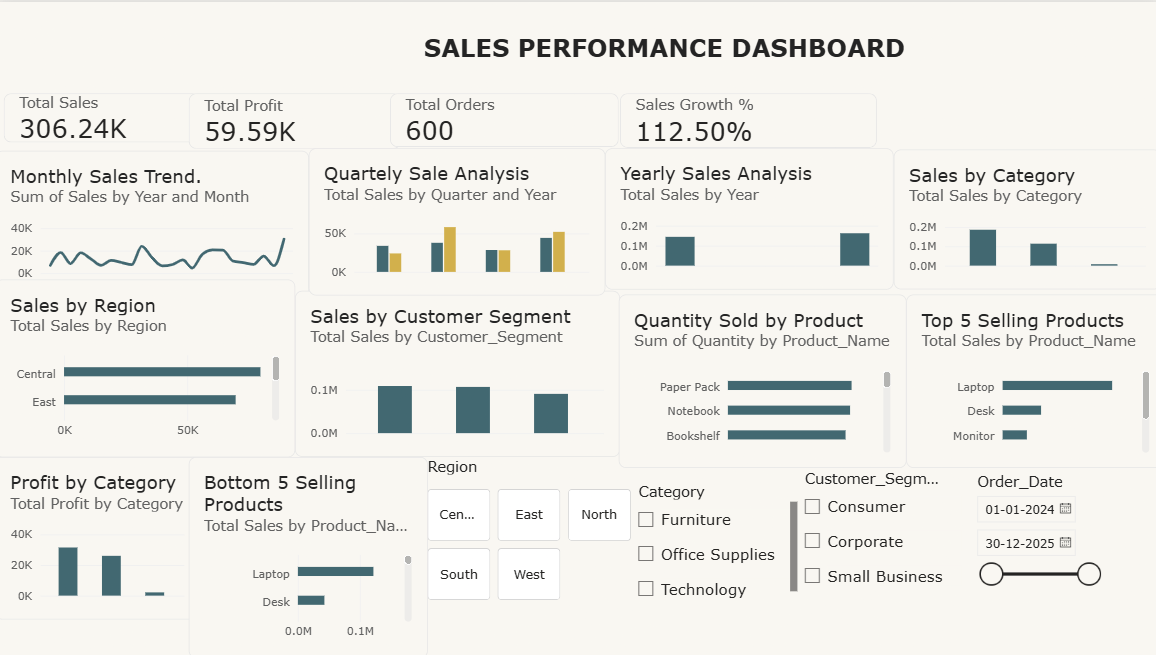

This screenshot's page, from the dashboard's own definition file:
{"tool":"powerbi","page":{"name":"Page 1","canvas":[1280,720],"ordinal":0},"visuals":[{"type":"cardVisual","fields":{"Data":["Syntecxhub_Sales_Sample_Dataset.Total Sales"]},"box":[9.6,100.2,215.4,54.9],"z":0},{"type":"cardVisual","fields":{"Data":["Syntecxhub_Sales_Sample_Dataset.Total Profit"]},"box":[212.7,100.2,233.3,61.7],"z":1000},{"type":"cardVisual","fields":{"Data":["Syntecxhub_Sales_Sample_Dataset.Total Orders"]},"box":[433.6,100.2,251.1,59],"z":2000},{"type":"textbox","box":[9.6,32.9,1207.6,50.8],"z":3000},{"type":"textbox","box":[1710,0,210,280],"z":4000},{"type":"lineChart","title":"Monthly Sales Trend.","fields":{"Category":["Syntecxhub_Sales_Sample_Dataset.Order_Date.Variation.Date Hierarchy.Year","Syntecxhub_Sales_Sample_Dataset.Order_Date.Variation.Date Hierarchy.Month"],"Y":["Sum(Syntecxhub_Sales_Sample_Dataset.Sales)"]},"box":[0,163.3,344.4,160.5],"z":5000},{"type":"clusteredBarChart","title":"Sales by Region","fields":{"Category":["Syntecxhub_Sales_Sample_Dataset.Region"],"Y":["Syntecxhub_Sales_Sample_Dataset.Total Sales"]},"box":[0,304.6,329.3,194.9],"z":6000},{"type":"clusteredColumnChart","title":"Sales by Category","fields":{"Category":["Syntecxhub_Sales_Sample_Dataset.Category"],"Y":["Syntecxhub_Sales_Sample_Dataset.Total Sales"]},"box":[986.6,161.9,293.7,153.7],"z":7000},{"type":"clusteredColumnChart","title":" Sales by Customer Segment","fields":{"Category":["Syntecxhub_Sales_Sample_Dataset.Customer_Segment"],"Y":["Syntecxhub_Sales_Sample_Dataset.Total Sales"]},"box":[329.3,317,356.8,182.5],"z":8000},{"type":"clusteredColumnChart","title":" Profit by Category","fields":{"Category":["Syntecxhub_Sales_Sample_Dataset.Category"],"Y":["Syntecxhub_Sales_Sample_Dataset.Total Profit"]},"box":[0,499.5,225,178.4],"z":9000},{"type":"clusteredBarChart","title":" Quantity Sold by Product","fields":{"Category":["Syntecxhub_Sales_Sample_Dataset.Product_Name"],"Y":["Sum(Syntecxhub_Sales_Sample_Dataset.Quantity)"]},"box":[684.7,321.1,315.6,190.7],"z":10000},{"type":"advancedSlicerVisual","fields":{"Values":["Syntecxhub_Sales_Sample_Dataset.Region"]},"box":[474.8,499.5,223.7,159.2],"z":11000},{"type":"slicer","fields":{"Values":["Syntecxhub_Sales_Sample_Dataset.Category"]},"box":[698.5,526.9,182.5,131.7],"z":12000},{"type":"slicer","fields":{"Values":["Syntecxhub_Sales_Sample_Dataset.Customer_Segment"]},"box":[881,513.2,179.8,150.9],"z":13000},{"type":"slicer","fields":{"Values":["Syntecxhub_Sales_Sample_Dataset.Order_Date"]},"box":[1070.3,516,146.8,145.5],"z":14000},{"type":"clusteredColumnChart","title":"Quartely Sale Analysis","fields":{"Category":["Syntecxhub_Sales_Sample_Dataset.Order_Date.Variation.Date Hierarchy.Quarter"],"Y":["Syntecxhub_Sales_Sample_Dataset.Total Sales"],"Series":["Syntecxhub_Sales_Sample_Dataset.Order_Date.Variation.Date Hierarchy.Year"]},"box":[344.4,160.5,325.2,161.9],"z":15000},{"type":"clusteredColumnChart","title":"Yearly Sales Analysis","fields":{"Category":["Syntecxhub_Sales_Sample_Dataset.Order_Date.Variation.Date Hierarchy.Year"],"Y":["Syntecxhub_Sales_Sample_Dataset.Total Sales"]},"box":[669.6,160.5,317,155.1],"z":16000},{"type":"cardVisual","fields":{"Data":["Syntecxhub_Sales_Sample_Dataset.Sales Growth %"]},"box":[686.1,100.2,282.7,60.4],"z":17000},{"type":"clusteredBarChart","title":"Top 5 Selling Products","fields":{"Category":["Syntecxhub_Sales_Sample_Dataset.Product_Name"],"Y":["Syntecxhub_Sales_Sample_Dataset.Total Sales"]},"box":[1000.3,321.1,284,190.7],"z":18000},{"type":"clusteredBarChart","title":"Bottom 5 Selling Products","fields":{"Category":["Syntecxhub_Sales_Sample_Dataset.Product_Name"],"Y":["Syntecxhub_Sales_Sample_Dataset.Total Sales"]},"box":[212.7,499.5,262.1,220.9],"z":19000}]}

Visuals, with their boxes in screenshot pixels (x1, y1, x2, y2), scaled from the page's 1280x720 canvas onto the 1156x655 screenshot:
cardVisual - Syntecxhub_Sales_Sample_Dataset.Total Sales: (left=9, top=91, right=203, bottom=141)
cardVisual - Syntecxhub_Sales_Sample_Dataset.Total Profit: (left=192, top=91, right=403, bottom=147)
cardVisual - Syntecxhub_Sales_Sample_Dataset.Total Orders: (left=392, top=91, right=618, bottom=145)
textbox: (left=9, top=30, right=1099, bottom=76)
"Monthly Sales Trend." lineChart: (left=0, top=149, right=311, bottom=295)
"Sales by Region" clusteredBarChart: (left=0, top=277, right=297, bottom=454)
"Sales by Category" clusteredColumnChart: (left=891, top=147, right=1155, bottom=287)
" Sales by Customer Segment" clusteredColumnChart: (left=297, top=288, right=620, bottom=454)
" Profit by Category" clusteredColumnChart: (left=0, top=454, right=203, bottom=617)
" Quantity Sold by Product" clusteredBarChart: (left=618, top=292, right=903, bottom=466)
advancedSlicerVisual - Syntecxhub_Sales_Sample_Dataset.Region: (left=429, top=454, right=631, bottom=599)
slicer - Syntecxhub_Sales_Sample_Dataset.Category: (left=631, top=479, right=796, bottom=599)
slicer - Syntecxhub_Sales_Sample_Dataset.Customer_Segment: (left=796, top=467, right=958, bottom=604)
slicer - Syntecxhub_Sales_Sample_Dataset.Order_Date: (left=967, top=469, right=1099, bottom=602)
"Quartely Sale Analysis" clusteredColumnChart: (left=311, top=146, right=605, bottom=293)
"Yearly Sales Analysis" clusteredColumnChart: (left=605, top=146, right=891, bottom=287)
cardVisual - Syntecxhub_Sales_Sample_Dataset.Sales Growth %: (left=620, top=91, right=875, bottom=146)
"Top 5 Selling Products" clusteredBarChart: (left=903, top=292, right=1155, bottom=466)
"Bottom 5 Selling Products" clusteredBarChart: (left=192, top=454, right=429, bottom=654)
